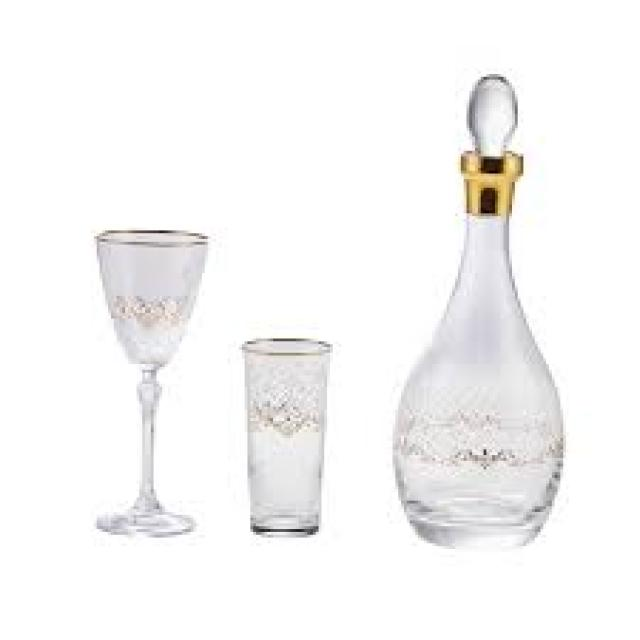Dry Waste: (387, 72, 570, 554), (79, 220, 213, 540), (230, 332, 339, 537)
